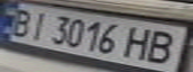0: (63, 16, 84, 50)
1: (81, 18, 103, 53)
3: (45, 12, 72, 47)
6: (100, 20, 127, 56)
B: (142, 27, 187, 65), (3, 6, 39, 38)
H: (121, 24, 157, 61)
I: (24, 9, 54, 42)
